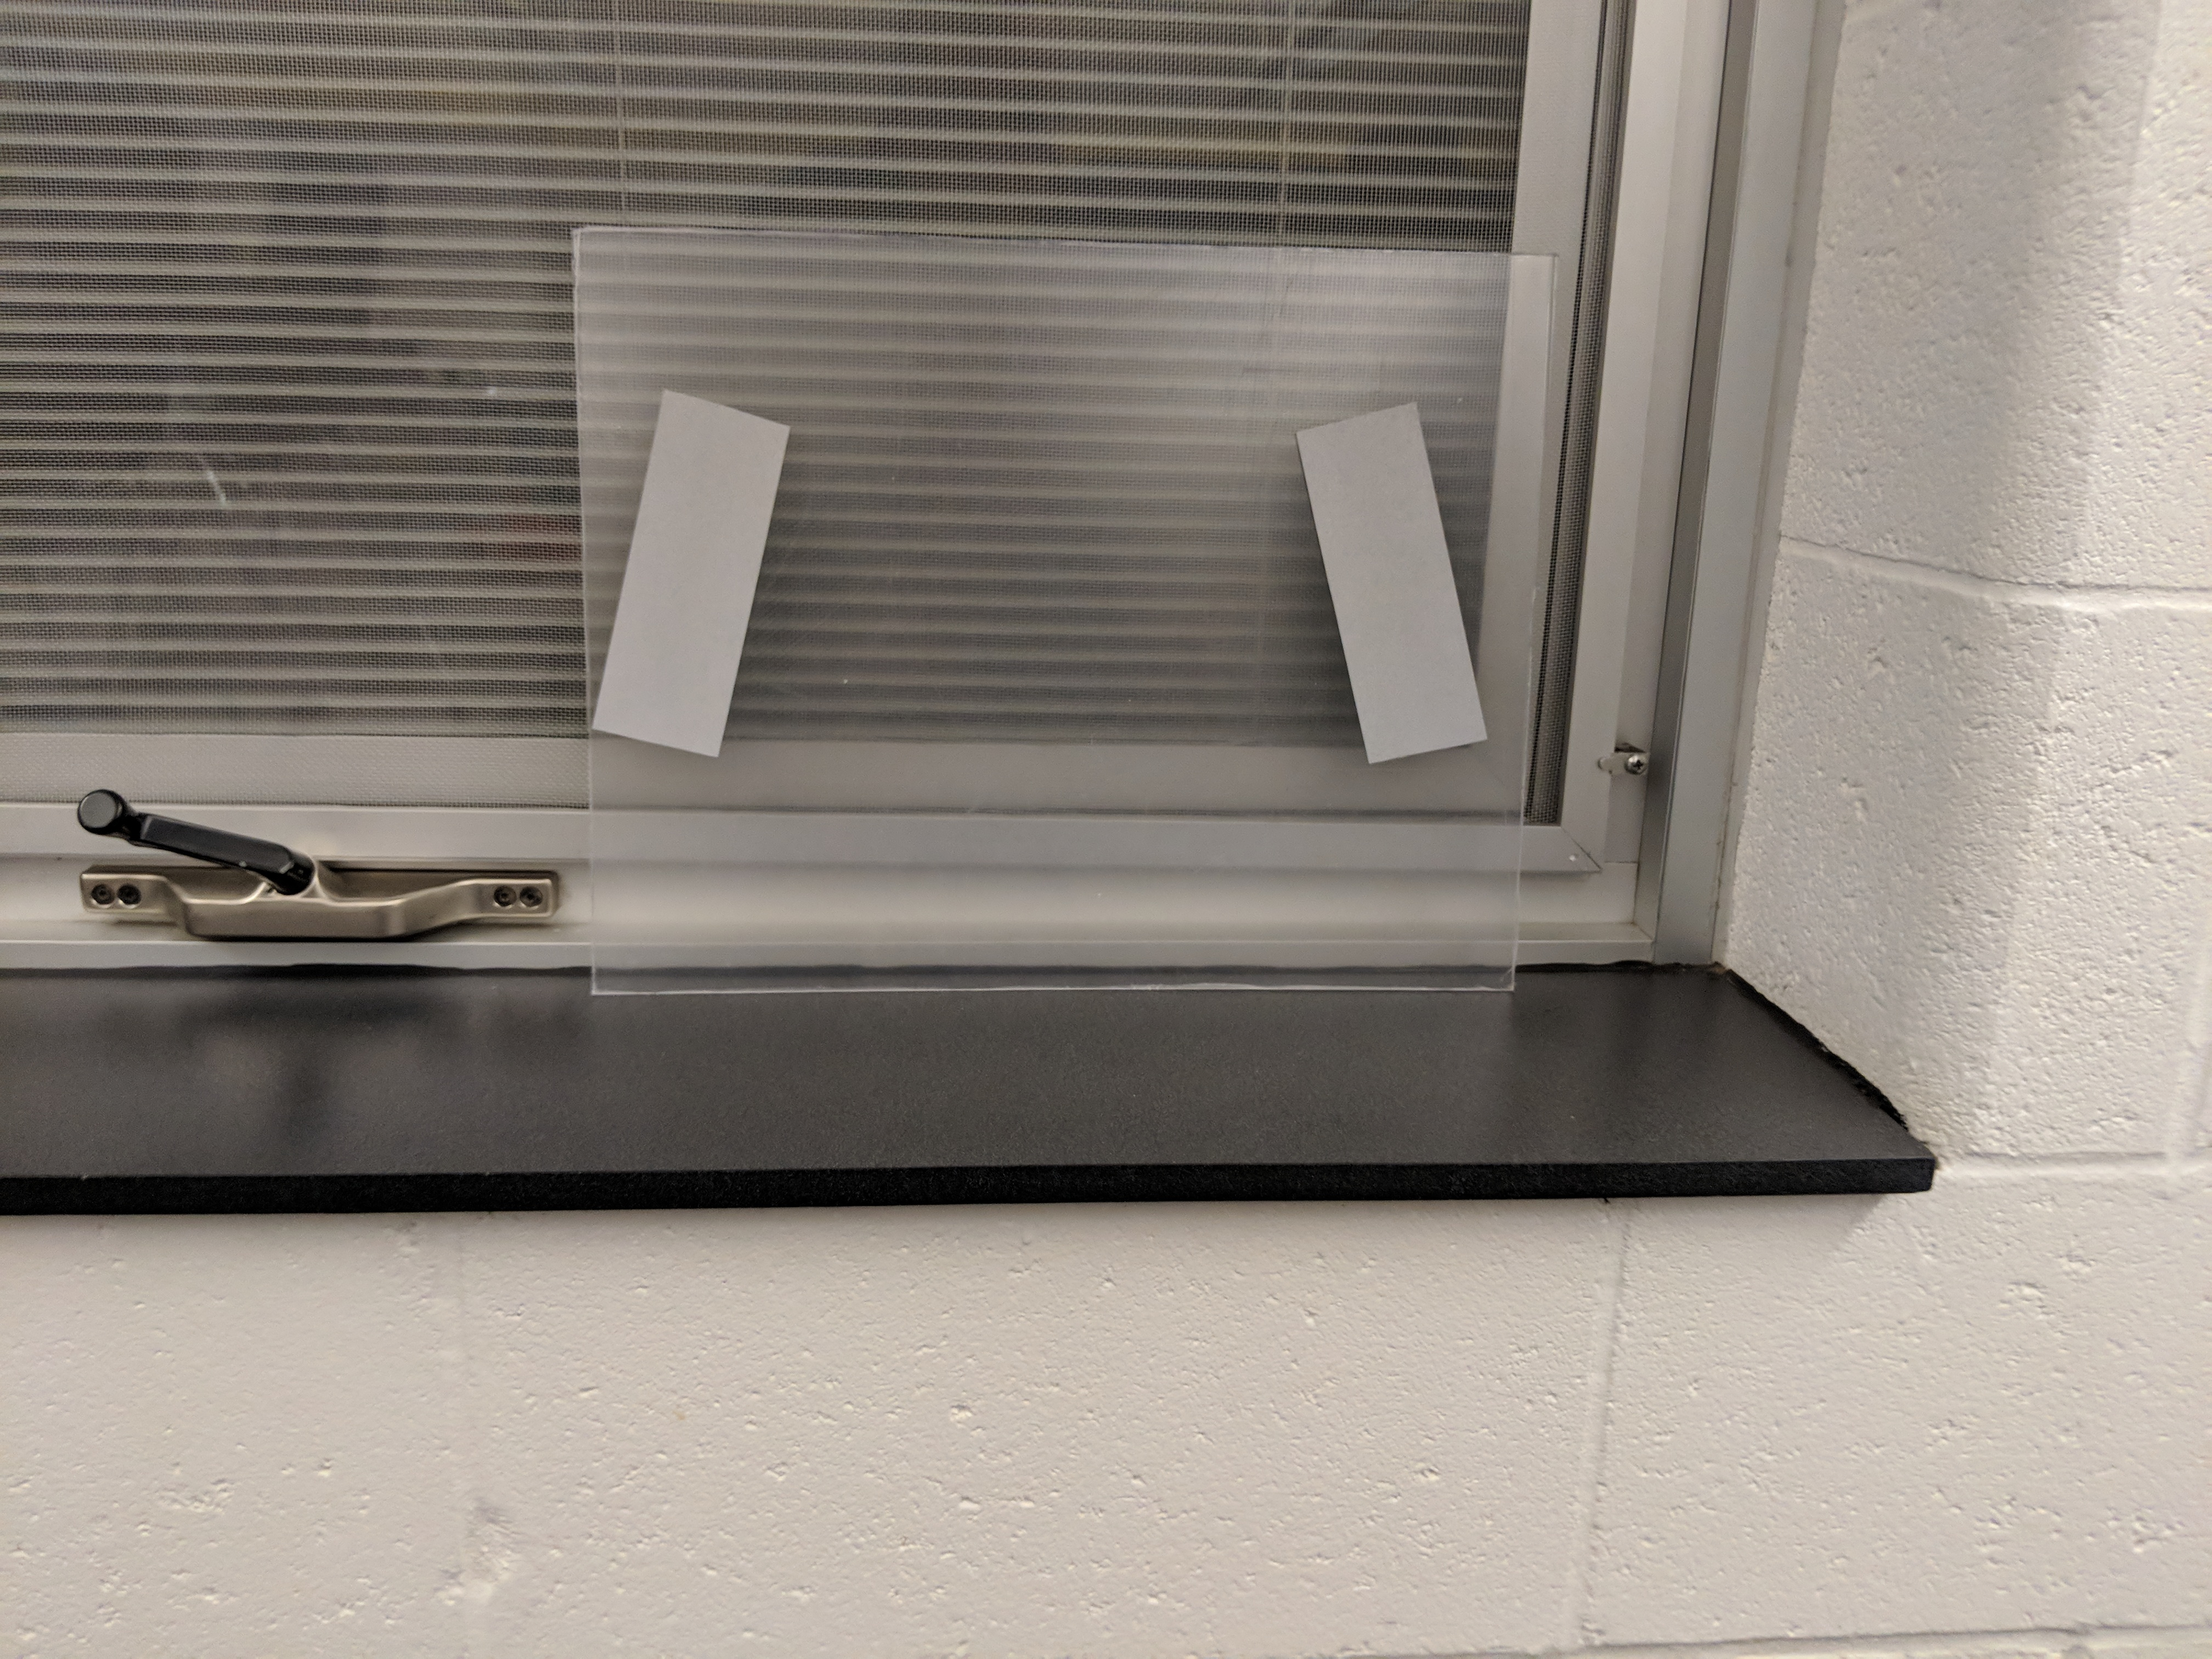vision_target: (573, 380, 1505, 809)
